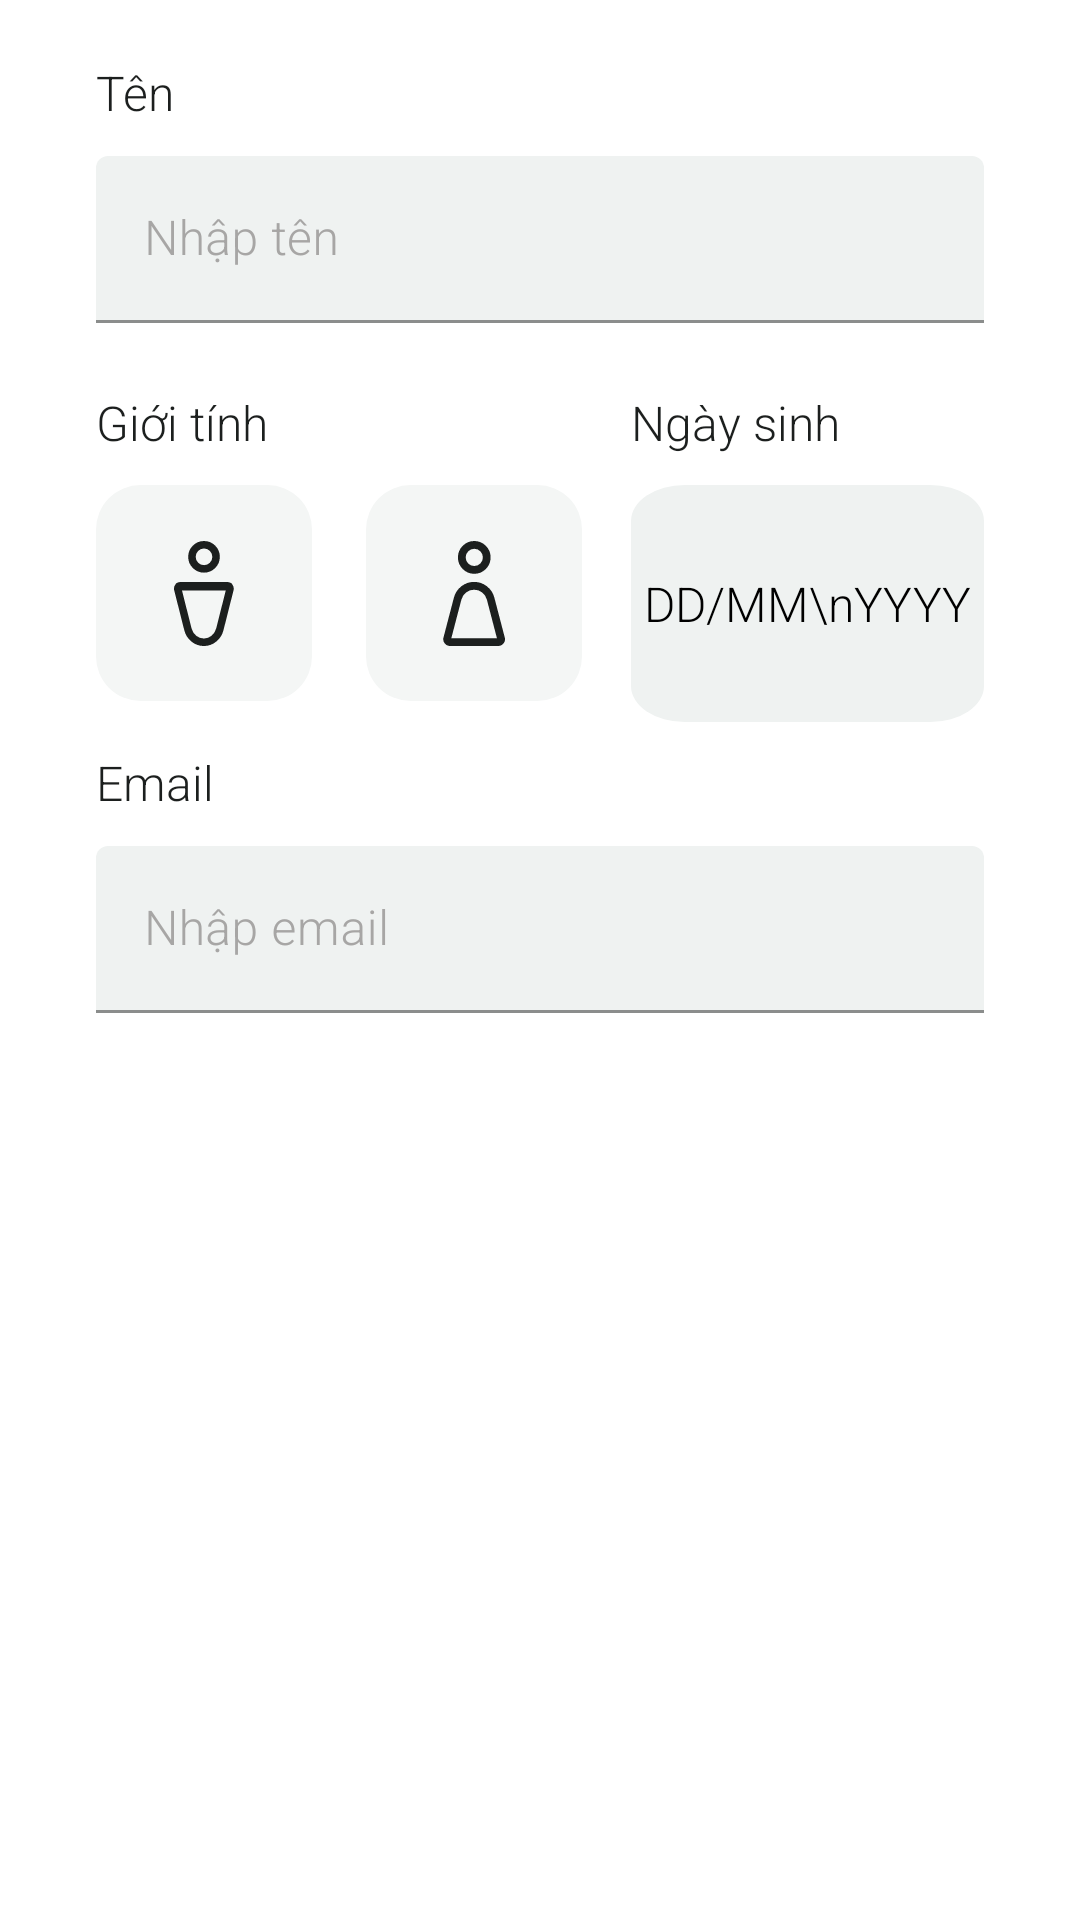

Point at icon controls on the screen. Image size 1080 x 1920, points as (x,y).
female: (474,593)
male: (204,593)
